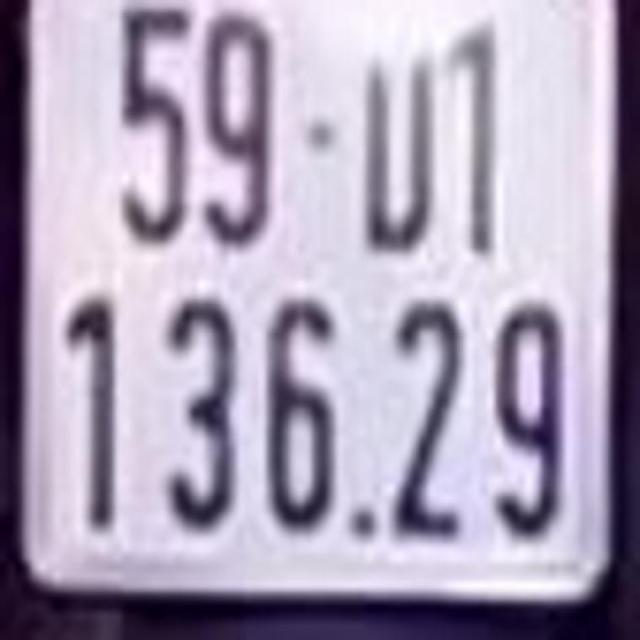1: (443, 6, 512, 260), (63, 286, 122, 536)
2: (387, 296, 464, 538)
3: (156, 286, 240, 524)
5: (116, 2, 191, 240)
6: (265, 288, 338, 533)
9: (492, 294, 566, 544), (200, 9, 276, 250)
U: (351, 14, 438, 250)
